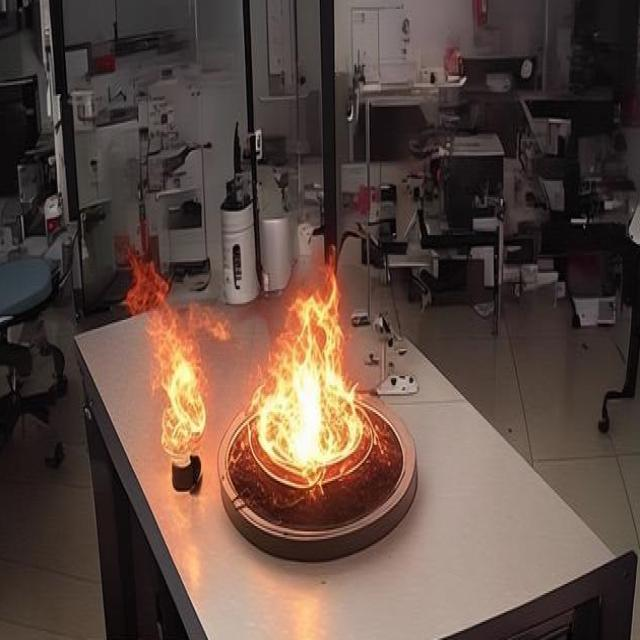smoke: (240, 269, 364, 474), (132, 248, 208, 463)
